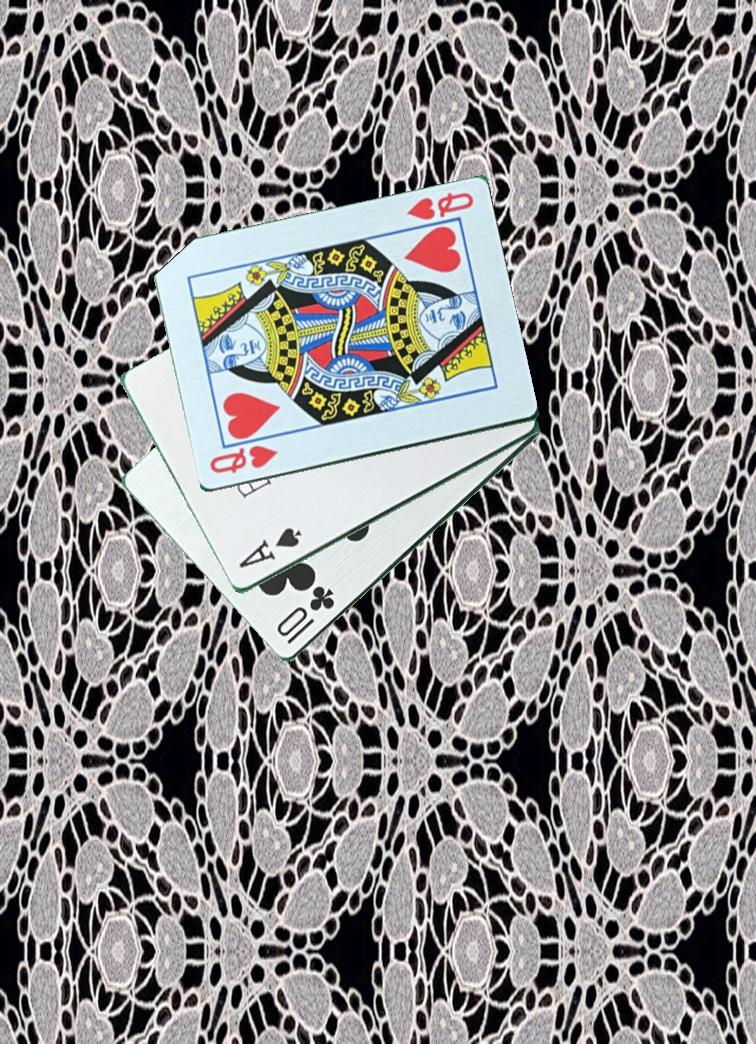as: (234, 524, 305, 572)
qh: (205, 442, 281, 477), (403, 189, 476, 224)
tc: (267, 577, 340, 648)
